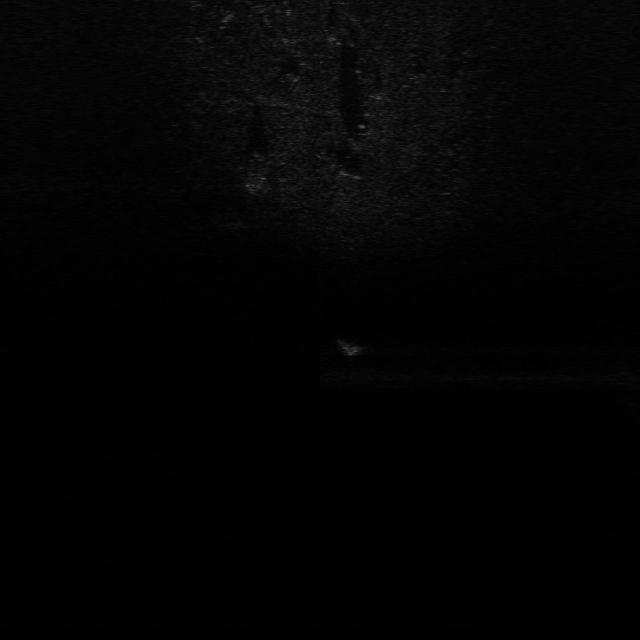square cage: (331, 327, 372, 361)
